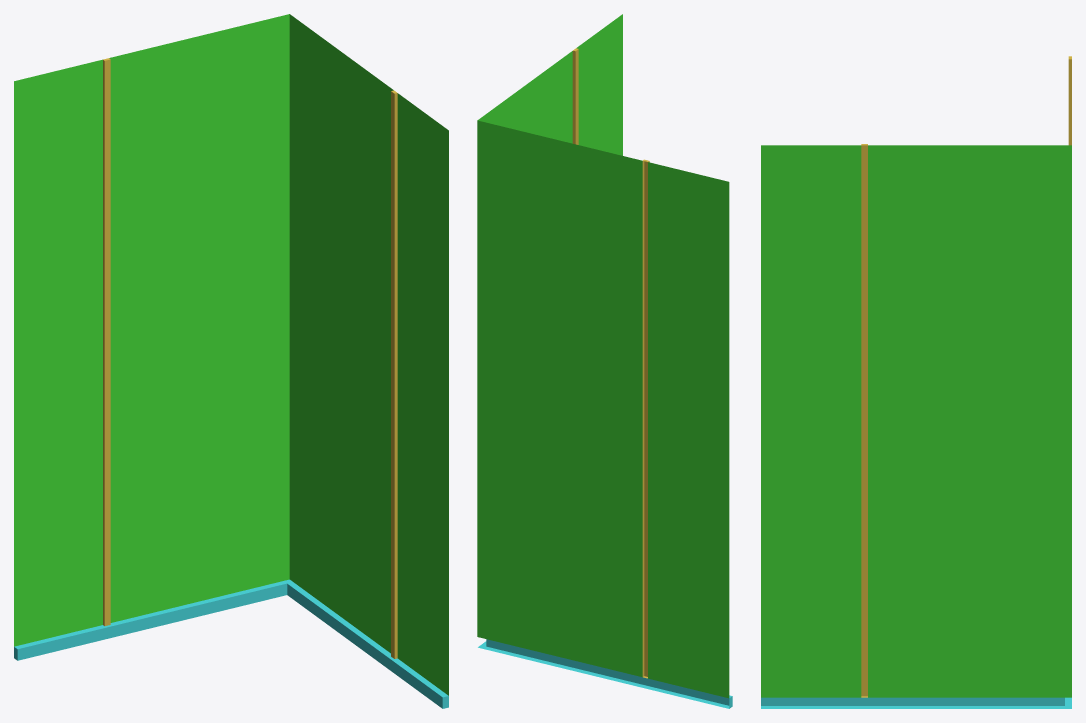
The model's file is Wall_50_Corner_02.fbx.
3 renders of one model, left to right at view 1: azimuth 30°, elevation 25°; view 2: azimuth 150°, elevation 25°; view 3: azimuth 270°, elevation 25°, orthographic. The views are drawn at different scales.
Visible parts, largest first — view 1: Wall_50_Corner_02; view 2: Wall_50_Corner_02; view 3: Wall_50_Corner_02.
Boxes of the visible parts, box(x1,y1,x2,y2) form: Wall_50_Corner_02: box(14, 14, 448, 708); Wall_50_Corner_02: box(477, 14, 732, 708); Wall_50_Corner_02: box(761, 56, 1071, 708).
Size of the model in its own units: 229 by 457 by 229.
